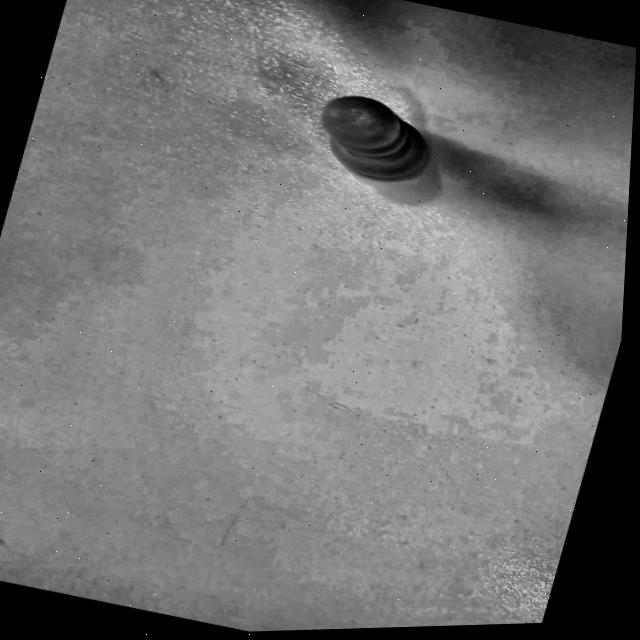white-pawn: (273, 49, 484, 213)
